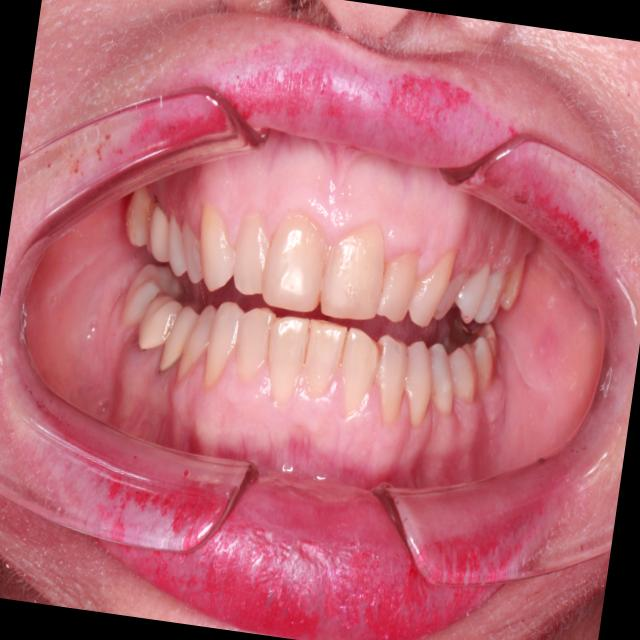tooth: (254, 203, 339, 320), (317, 212, 395, 330), (184, 193, 252, 299), (114, 249, 193, 340), (256, 309, 315, 414), (221, 204, 283, 302), (331, 320, 388, 425), (364, 325, 418, 433), (404, 240, 459, 336), (393, 330, 442, 433), (200, 293, 249, 394), (299, 308, 352, 401), (172, 295, 223, 391), (229, 298, 281, 388), (132, 281, 191, 360), (371, 243, 424, 328), (153, 297, 203, 384), (418, 336, 465, 421), (172, 211, 217, 289), (449, 253, 493, 330), (120, 175, 163, 253), (138, 194, 181, 271), (440, 336, 486, 407), (464, 322, 505, 400), (471, 254, 513, 330), (430, 264, 474, 328), (498, 242, 534, 320), (160, 210, 196, 280)
